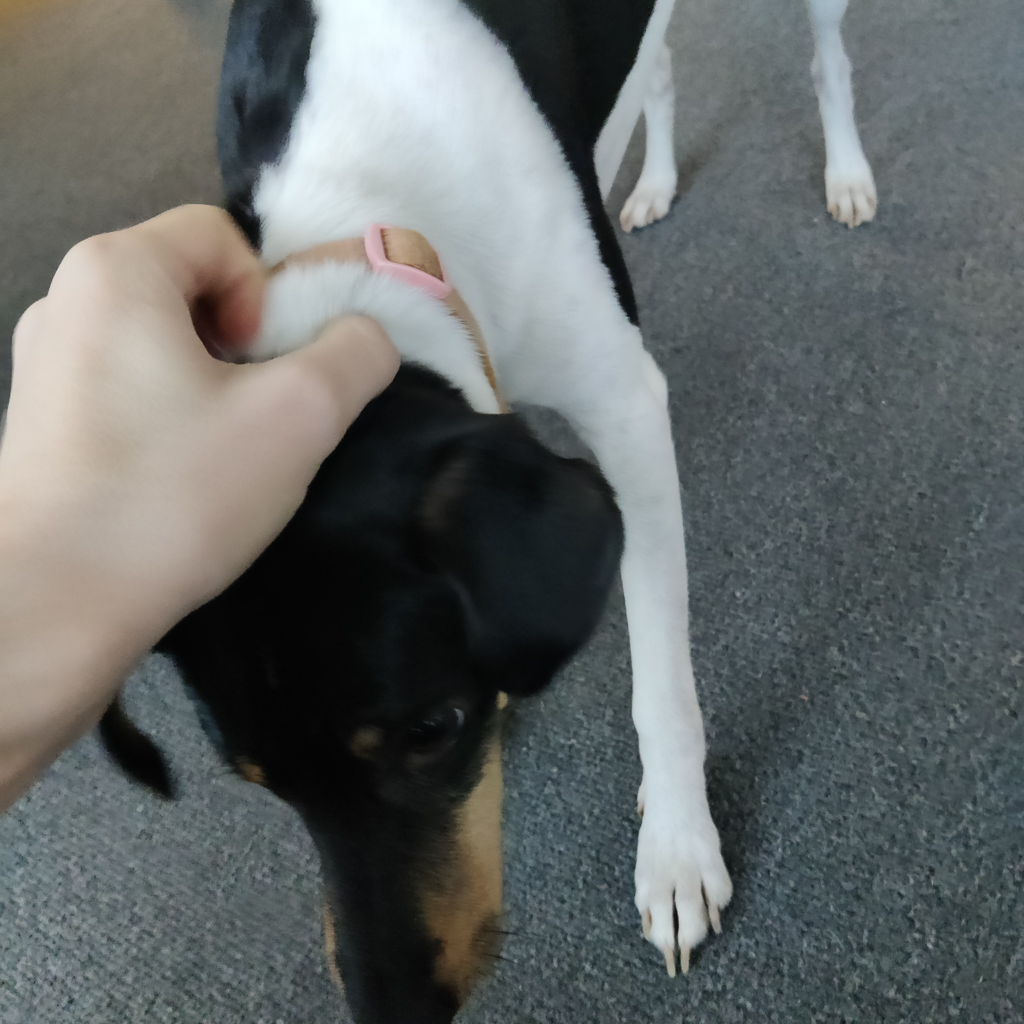Dog: (58, 0, 887, 1024)
Humanoid: (0, 193, 421, 842)
